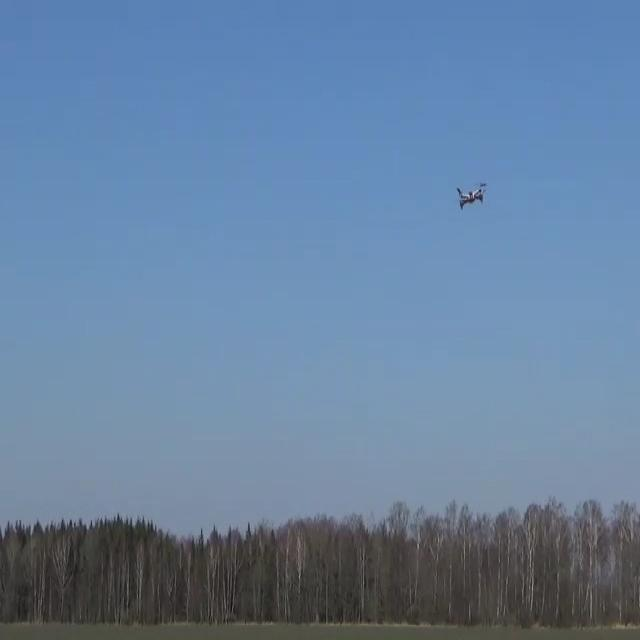drone: (456, 181, 486, 209)
